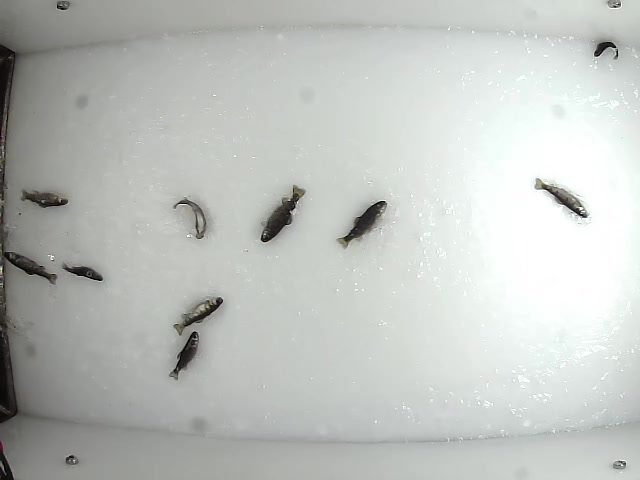fish: (259, 184, 308, 246), (334, 196, 387, 251), (530, 176, 591, 219), (169, 295, 227, 337), (1, 249, 60, 286), (166, 329, 202, 382), (170, 194, 208, 242), (19, 187, 70, 209), (62, 261, 104, 280), (592, 40, 621, 61)
